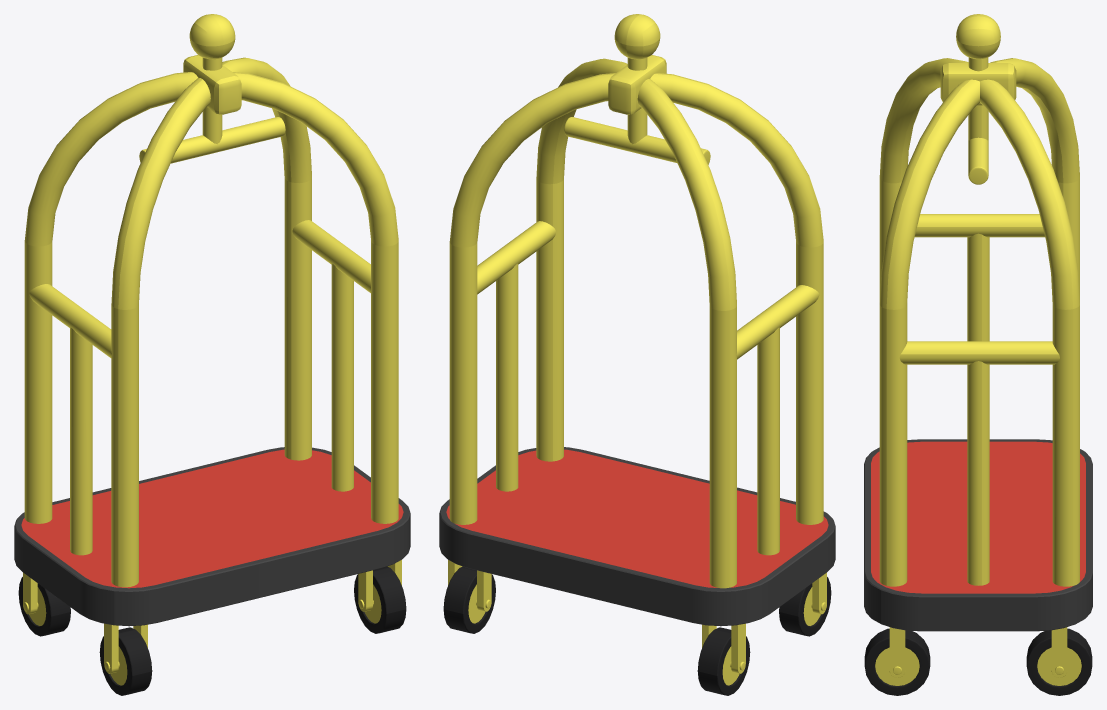
The model's file is Trolley.fbx.
3 views of the same model, side by side, from view 1: azimuth 30°, elevation 25°; view 2: azimuth 150°, elevation 25°; view 3: azimuth 270°, elevation 25° (orthographic).
Visible parts, largest first — view 1: Trolley; view 2: Trolley; view 3: Trolley.
Boxes of the visible parts, left/top/right/bottom form: Trolley: left=14, top=14, right=410, bottom=695; Trolley: left=439, top=14, right=835, bottom=695; Trolley: left=864, top=14, right=1092, bottom=695.
Size of the model in its own units: 197 by 358 by 121.
Materials: 1 (1 with a texture image).
